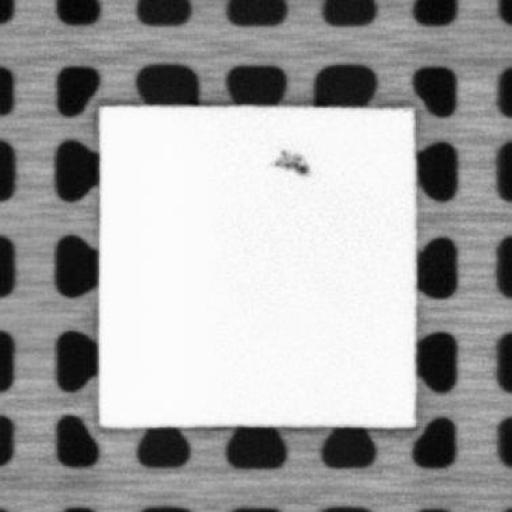DIE_INK: (275, 146, 309, 176)
